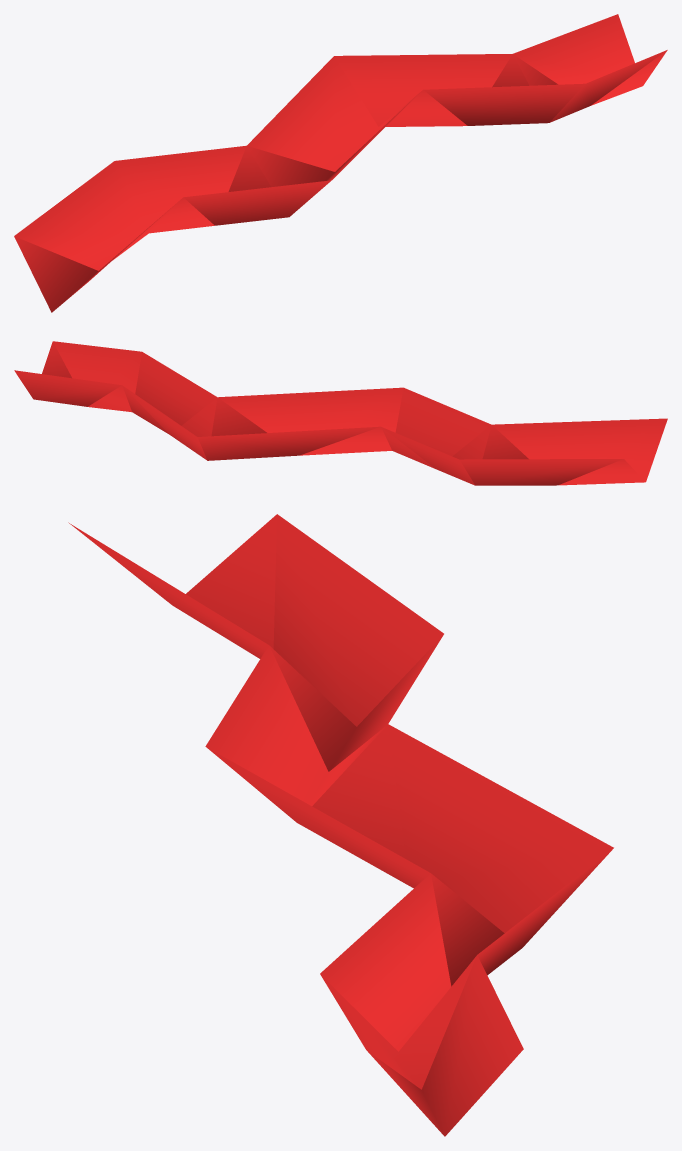
File: VFX_Crack2.fbx
3 renders of one model, top to bottom at view 1: azimuth 30°, elevation 25°; view 2: azimuth 150°, elevation 25°; view 3: azimuth 270°, elevation 25°, orthographic. The views are drawn at different scales.
Visible parts, largest first — view 1: polySurface1; view 2: polySurface1; view 3: polySurface1.
Boxes of the visible parts, x1=… form: polySurface1: x1=14, y1=14, x2=667, y2=312; polySurface1: x1=14, y1=341, x2=667, y2=485; polySurface1: x1=68, y1=514, x2=613, y2=1136.
Size of the model in its own units: 1680 by 128 by 724.
